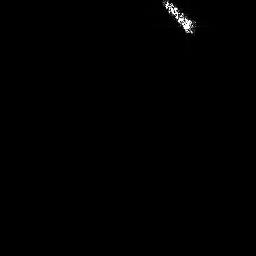ship: (160, 1, 198, 37)
